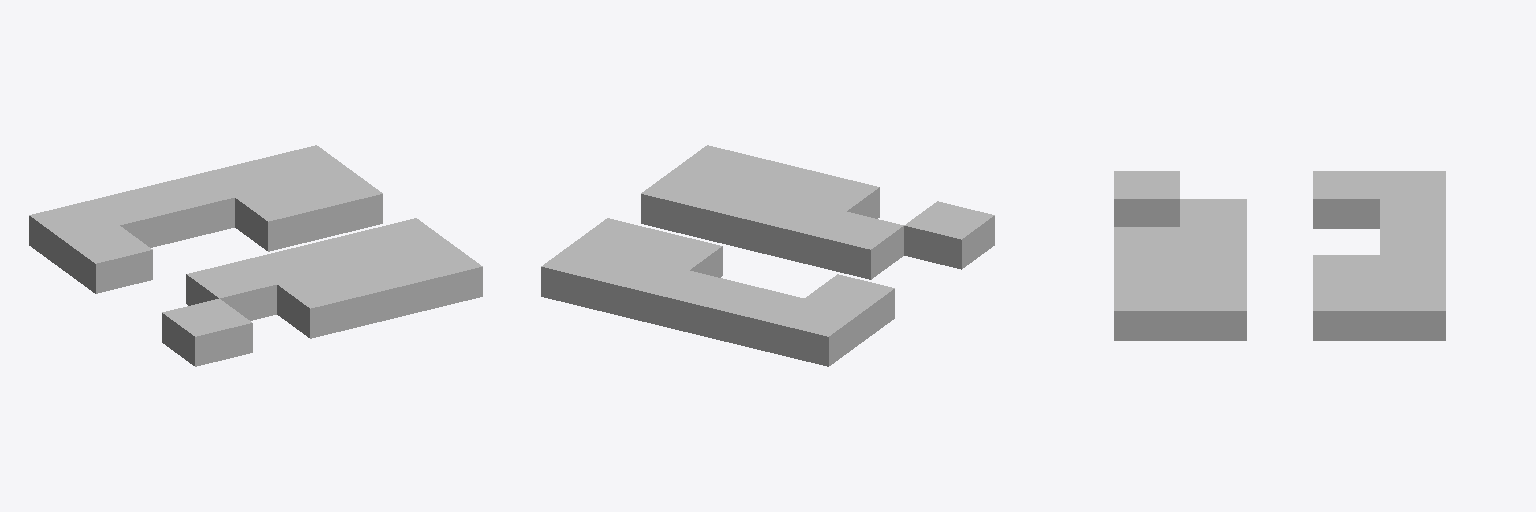
Rendered from 20f_block.obj.
3 renders of one model, left to right at view 1: azimuth 30°, elevation 25°; view 2: azimuth 150°, elevation 25°; view 3: azimuth 270°, elevation 25°, orthographic.
Visible parts, largest first — view 1: foil.block.2.0_block.3220, foil.block.0.0_block.3214, foil.block.0.3_block.3215, foil.block.3.3_block.3225, foil.block.1.1_block.3218, foil.block.2.4_block.3222, foil.block.4.0_block.3227, foil.block.4.3_block.3229, foil.block.3.0_block.3223, foil.block.1.4_block.3219, foil.block.0.4_block.3216, foil.block.2.1_block.3221 (+4 smaller); view 2: foil.block.0.0_block.3214, foil.block.1.1_block.3218, foil.block.0.4_block.3216, foil.block.4.4_block.3230, foil.block.2.4_block.3222, foil.block.3.1_block.3224, foil.block.4.1_block.3228, foil.block.1.4_block.3219, foil.block.2.1_block.3221, foil.block.3.4_block.3226, foil.block.0.3_block.3215, foil.block.3.3_block.3225 (+4 smaller); view 3: foil.block.0.3_block.3215, foil.block.4.1_block.3228, foil.block.4.3_block.3229, foil.block.4.0_block.3227, foil.block.4.4_block.3230, foil.block.0.0_block.3214, foil.block.1.1_block.3218, foil.block.2.1_block.3221, foil.block.3.1_block.3224, foil.block.3.3_block.3225, foil.block.0.4_block.3216, foil.block.1.4_block.3219 (+4 smaller).
Part boxes in pixels (left/top/right/bottom): foil.block.2.0_block.3220: left=277, top=270, right=367, bottom=338; foil.block.0.0_block.3214: left=162, top=298, right=252, bottom=366; foil.block.0.3_block.3215: left=62, top=226, right=152, bottom=293; foil.block.3.3_block.3225: left=235, top=183, right=325, bottom=251; foil.block.1.1_block.3218: left=186, top=260, right=276, bottom=320; foil.block.2.4_block.3222: left=145, top=173, right=234, bottom=241; foil.block.4.0_block.3227: left=392, top=242, right=482, bottom=310; foil.block.4.3_block.3229: left=293, top=169, right=382, bottom=237; foil.block.3.0_block.3223: left=335, top=257, right=424, bottom=324; foil.block.1.4_block.3219: left=87, top=187, right=176, bottom=247; foil.block.0.4_block.3216: left=29, top=201, right=119, bottom=268; foil.block.2.1_block.3221: left=244, top=246, right=333, bottom=283; foil.block.0.0_block.3214: left=904, top=201, right=994, bottom=269; foil.block.1.1_block.3218: left=813, top=212, right=903, bottom=279; foil.block.0.4_block.3216: left=771, top=298, right=861, bottom=366; foil.block.4.4_block.3230: left=541, top=242, right=631, bottom=310; foil.block.2.4_block.3222: left=656, top=270, right=746, bottom=338; foil.block.3.1_block.3224: left=698, top=183, right=788, bottom=251; foil.block.4.1_block.3228: left=641, top=169, right=730, bottom=237; foil.block.1.4_block.3219: left=714, top=285, right=803, bottom=352; foil.block.2.1_block.3221: left=756, top=198, right=846, bottom=265; foil.block.3.4_block.3226: left=599, top=257, right=688, bottom=324; foil.block.0.3_block.3215: left=805, top=274, right=894, bottom=341; foil.block.3.3_block.3225: left=632, top=232, right=722, bottom=277; foil.block.0.3_block.3215: left=1313, top=171, right=1379, bottom=228; foil.block.4.1_block.3228: left=1180, top=283, right=1246, bottom=340; foil.block.4.3_block.3229: left=1313, top=283, right=1379, bottom=340; foil.block.4.0_block.3227: left=1114, top=283, right=1179, bottom=340; foil.block.4.4_block.3230: left=1380, top=283, right=1445, bottom=340; foil.block.0.0_block.3214: left=1114, top=171, right=1179, bottom=226; foil.block.1.1_block.3218: left=1180, top=199, right=1246, bottom=226; foil.block.2.1_block.3221: left=1180, top=227, right=1246, bottom=254; foil.block.3.1_block.3224: left=1180, top=255, right=1246, bottom=282; foil.block.3.3_block.3225: left=1313, top=255, right=1379, bottom=282; foil.block.0.4_block.3216: left=1380, top=171, right=1445, bottom=198; foil.block.1.4_block.3219: left=1380, top=199, right=1445, bottom=226.
Bounding box in the file's own units: 10 × 1 × 10.